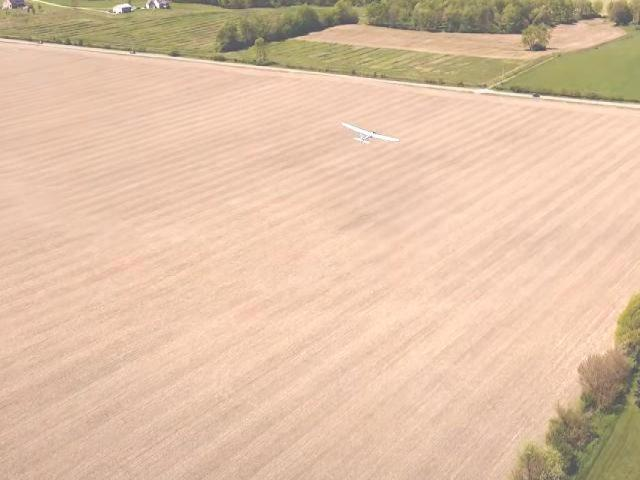iha: (343, 122, 399, 144)
